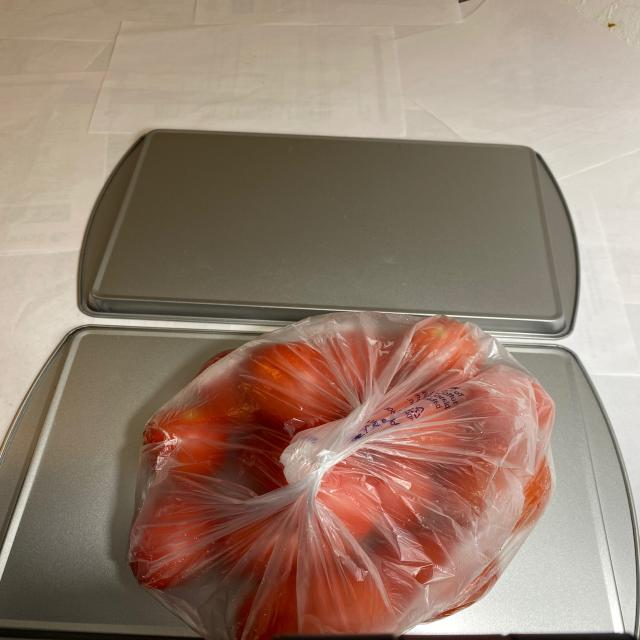tomato: (125, 321, 550, 639)
